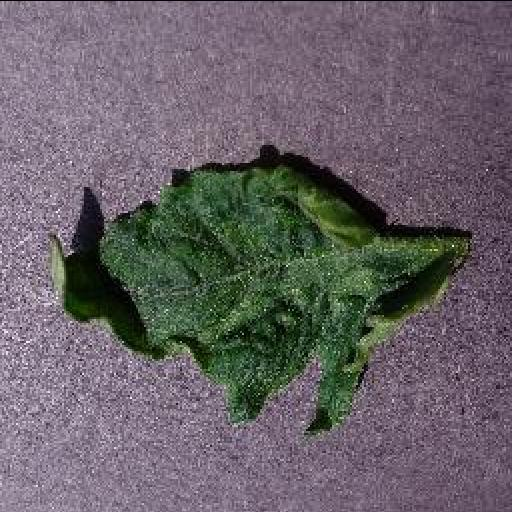disease_tomato: (48, 162, 456, 434)
